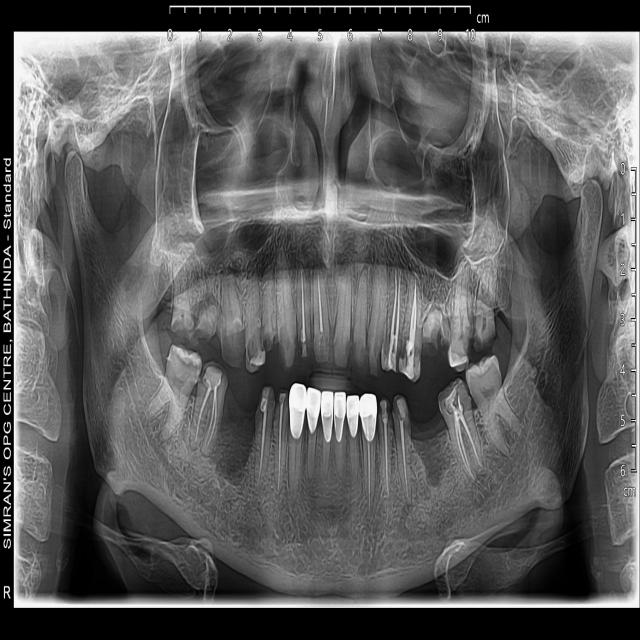Caries: (247, 324, 265, 364), (474, 332, 495, 352), (182, 381, 197, 397), (464, 335, 471, 362)
Crown: (288, 384, 307, 439), (359, 394, 377, 442), (321, 390, 334, 446), (307, 385, 321, 435), (334, 392, 347, 441), (346, 396, 360, 438)
Filling: (398, 341, 415, 380), (203, 365, 222, 390), (396, 397, 407, 422), (259, 387, 269, 413), (381, 400, 388, 419)
Mandibular Canal: (383, 342, 556, 557), (118, 331, 263, 545)
Missing teeth: (223, 379, 262, 426), (406, 400, 449, 441)
Periapical lesion: (358, 265, 371, 288)
Root Canal Treatment: (458, 414, 485, 469), (455, 413, 474, 481), (194, 384, 212, 448), (388, 267, 397, 369), (257, 407, 268, 490), (458, 416, 472, 476), (206, 388, 218, 449), (205, 388, 216, 448), (401, 421, 409, 501), (393, 268, 400, 355), (277, 403, 283, 493), (409, 278, 416, 348), (317, 263, 324, 332), (301, 266, 306, 342), (367, 437, 372, 507), (384, 415, 388, 496)
Root Piece: (208, 294, 240, 369), (171, 257, 195, 341), (224, 268, 243, 368), (261, 270, 280, 352), (191, 307, 220, 347), (423, 305, 442, 356), (439, 312, 451, 350)
maxillary sinus: (371, 70, 510, 279), (154, 100, 291, 266)
